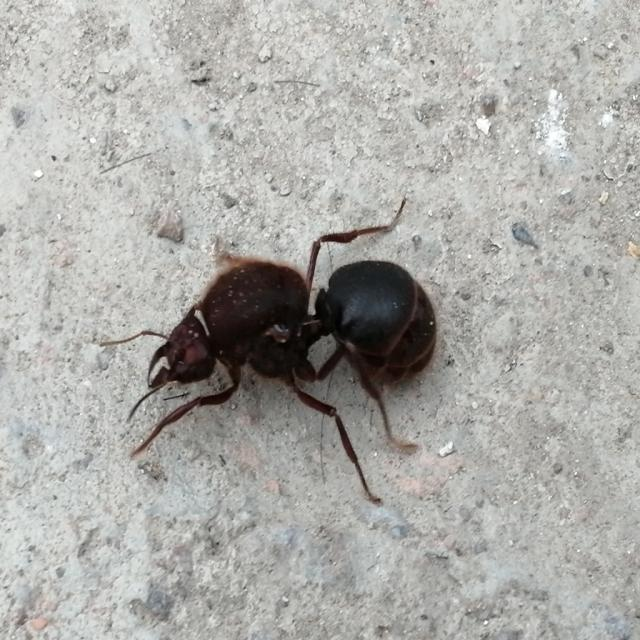Alive-Female-Dealate: (101, 197, 438, 507)
